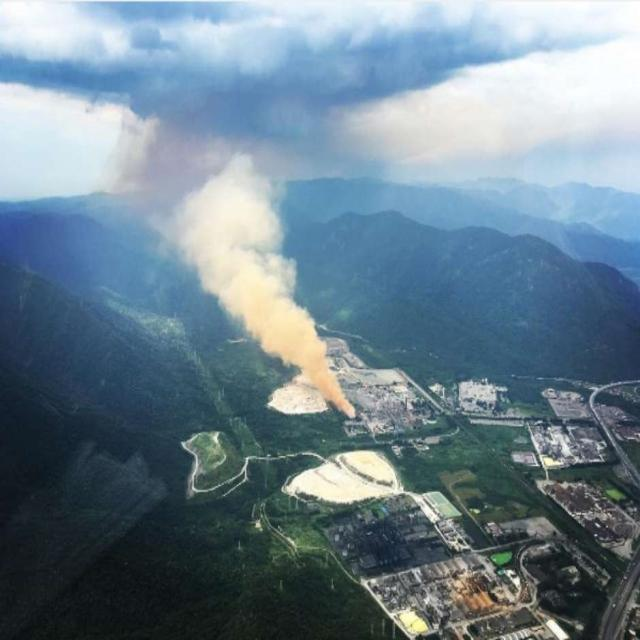Fire: (310, 361, 355, 421)
Smoke: (167, 132, 324, 358)
